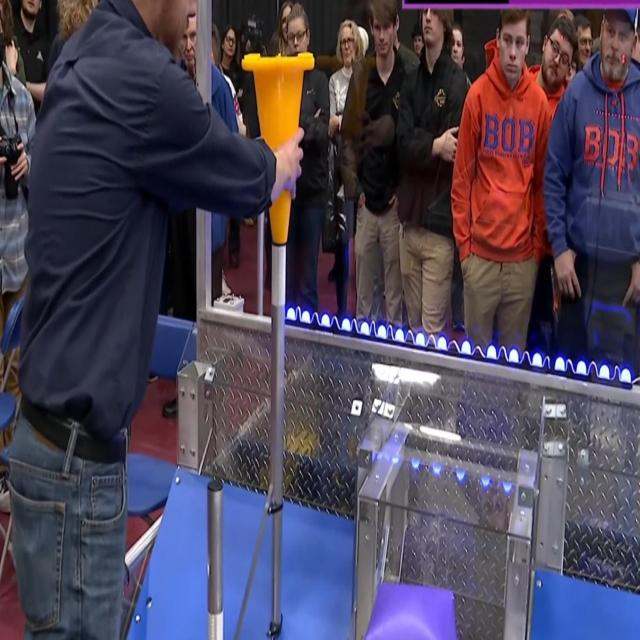frc_cone: (242, 48, 314, 244)
frc_cube: (369, 582, 458, 640)
